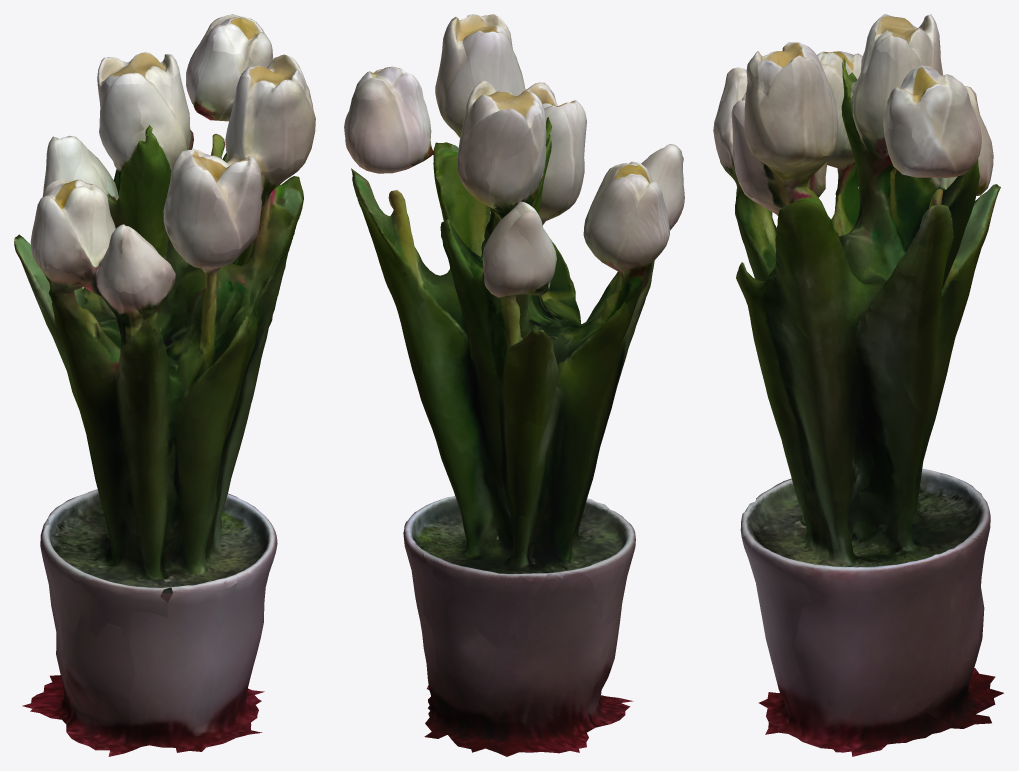
The model's file is Vase_Plant.obj.
3 views of the same model, side by side, from view 1: azimuth 30°, elevation 25°; view 2: azimuth 150°, elevation 25°; view 3: azimuth 270°, elevation 25° (orthographic). The views are drawn at different scales.
Parts seen in each view (by area): view 1: Object; view 2: Object; view 3: Object.
Part boxes in pixels (x1,y1,x2,y2): Object: (14,14,315,756); Object: (344,14,684,756); Object: (713,14,1003,756).
Size of the model in its own units: 0.3855 by 0.8735 by 0.3286.
